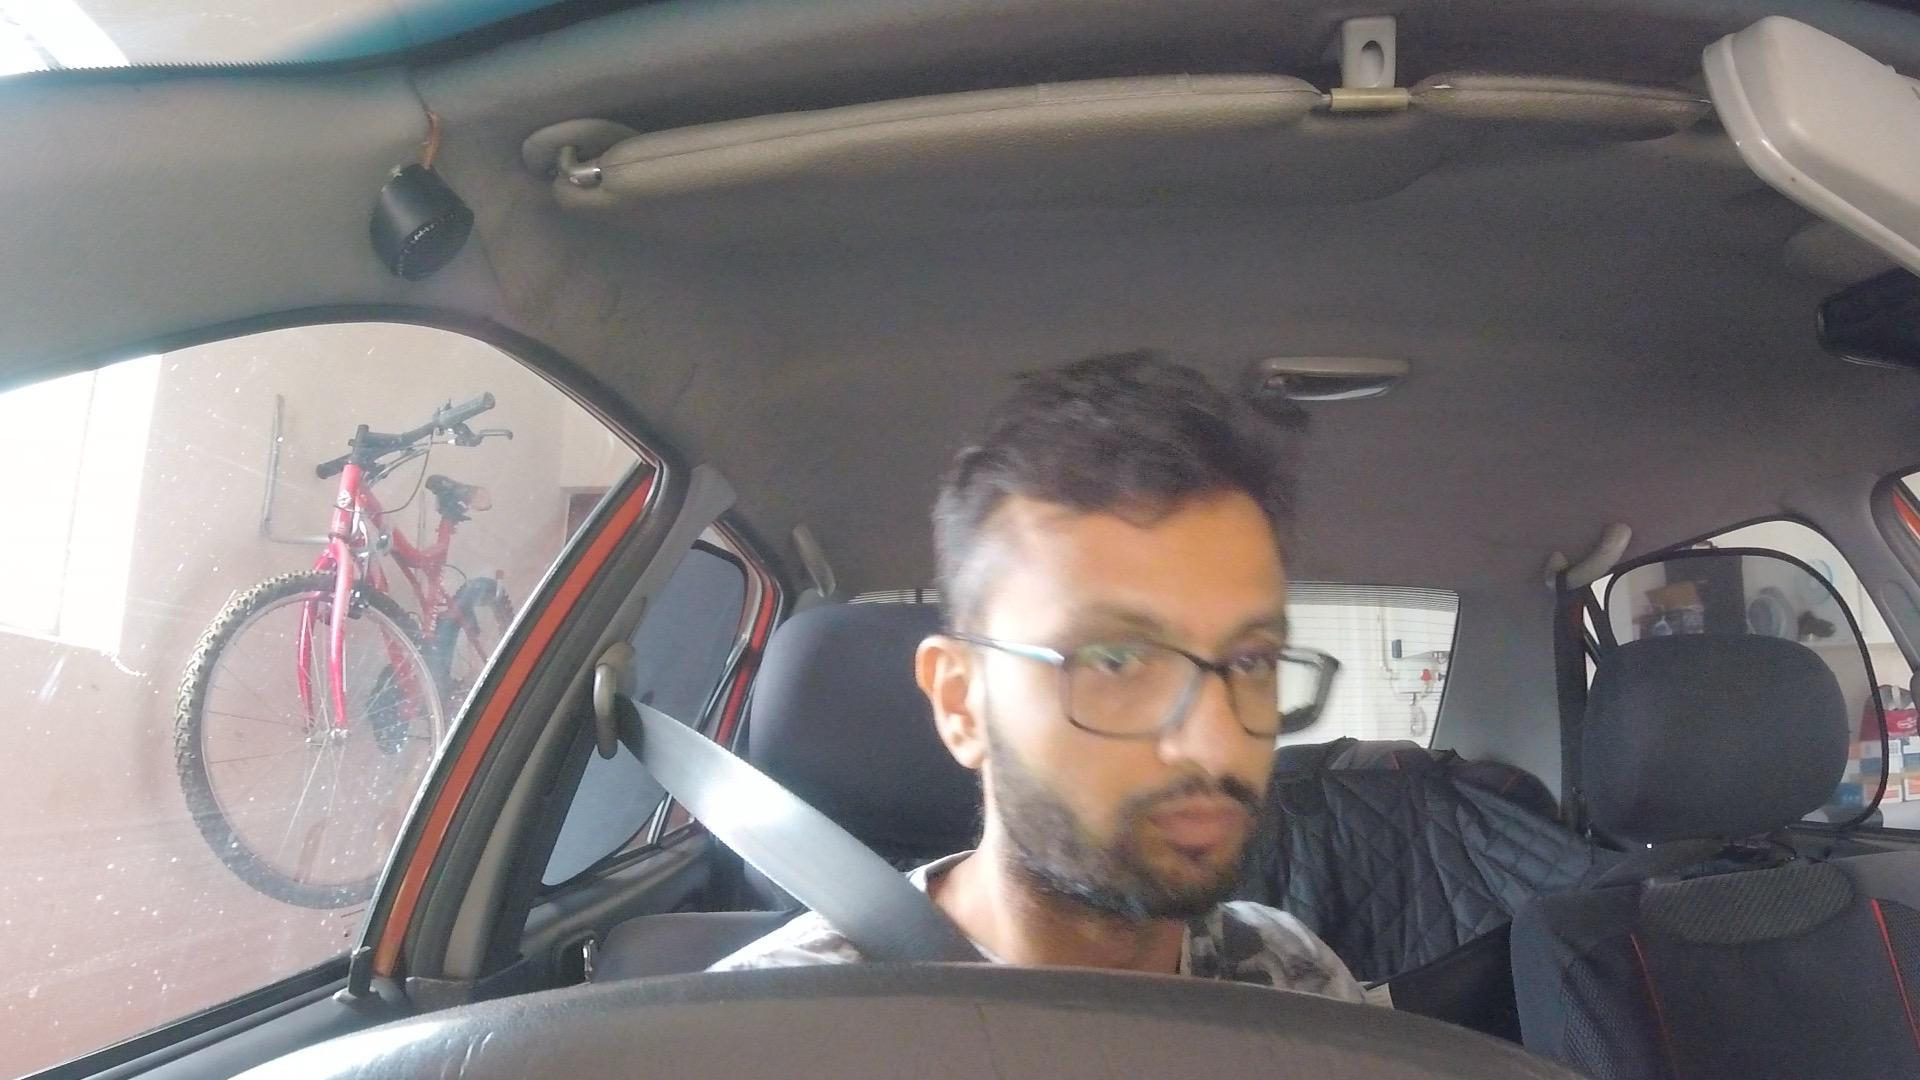SafeDriving: (907, 352, 1338, 932)
